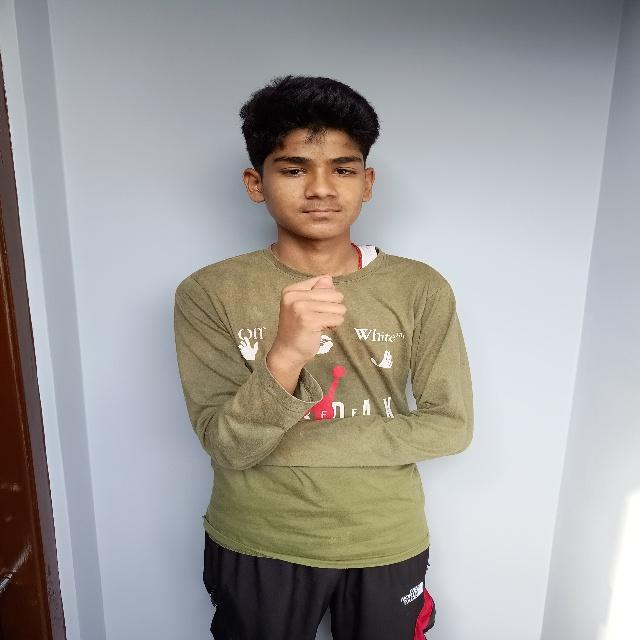Dulya: (263, 268, 357, 394)
